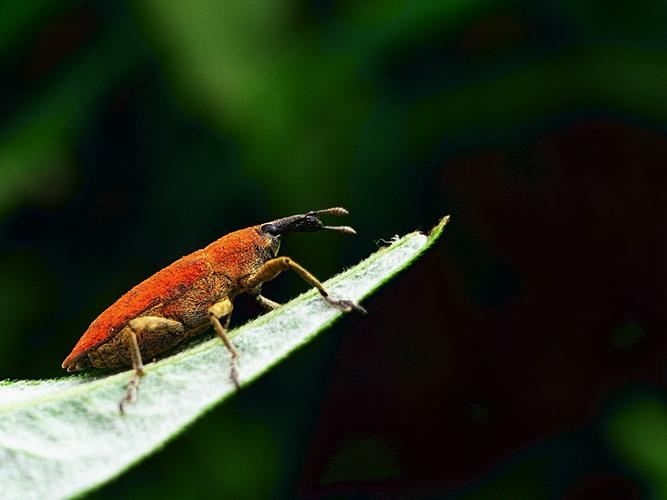Curculionidae: (61, 205, 368, 416)
